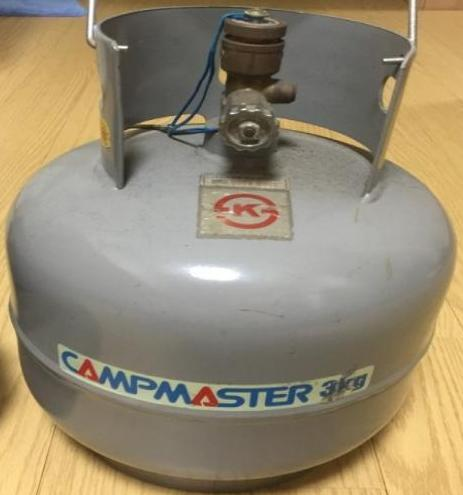cylinder: (0, 1, 463, 495)
